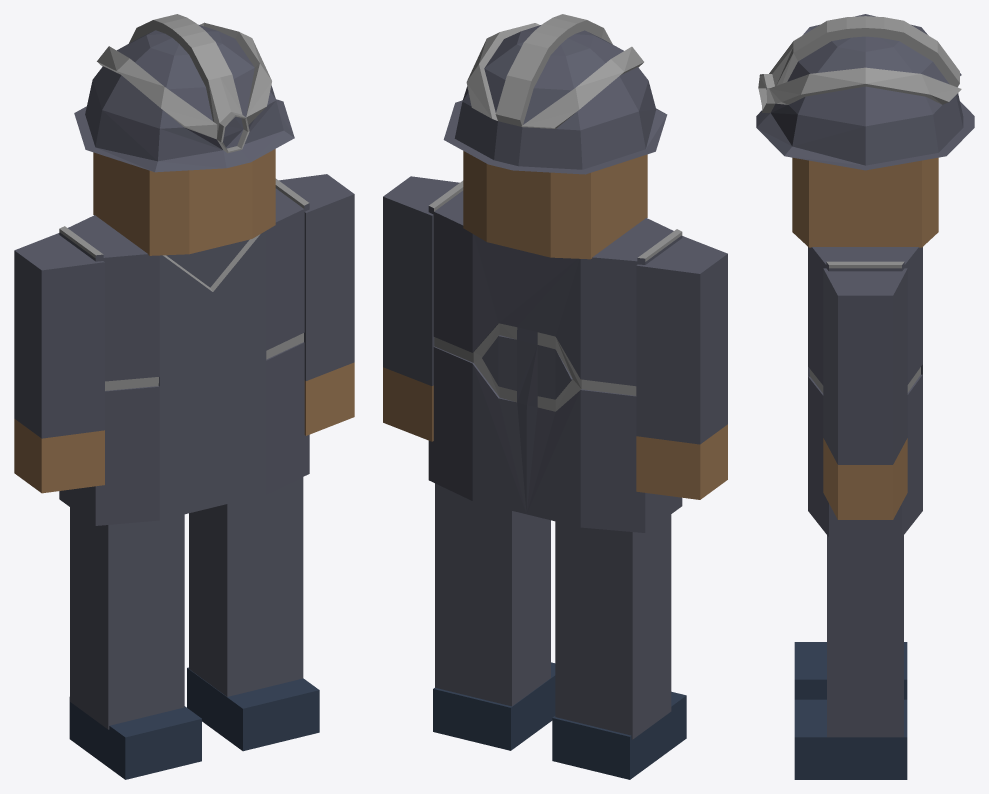
The model's file is black guy grey  4.fbx.
The picture shows the model from 3 angles, left to right: view 1: azimuth 30°, elevation 25°; view 2: azimuth 150°, elevation 25°; view 3: azimuth 270°, elevation 25°; orthographic projection.
Parts seen in each view (by area): view 1: polySurface177; view 2: polySurface177; view 3: polySurface177.
Boxes of the visible parts, <box> form: polySurface177: <box>14,14,354,779</box>; polySurface177: <box>383,14,727,779</box>; polySurface177: <box>756,14,974,779</box>.
Size of the model in its own units: 88.75 by 191 by 53.3.
